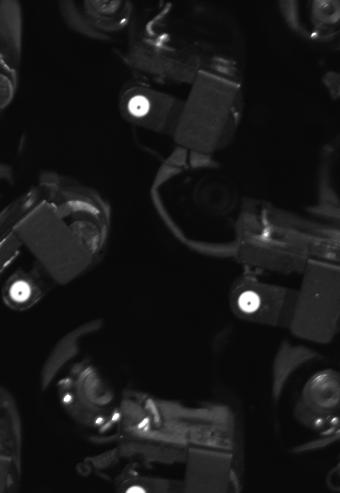fiber: (5, 274, 36, 309), (234, 285, 265, 319), (123, 92, 155, 121)
